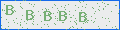B: (78, 11, 87, 22), (59, 11, 67, 21), (44, 11, 52, 21), (26, 10, 34, 20), (6, 5, 14, 15)
